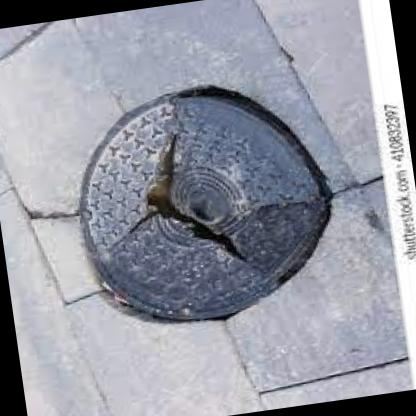manholes: (49, 54, 366, 345)
